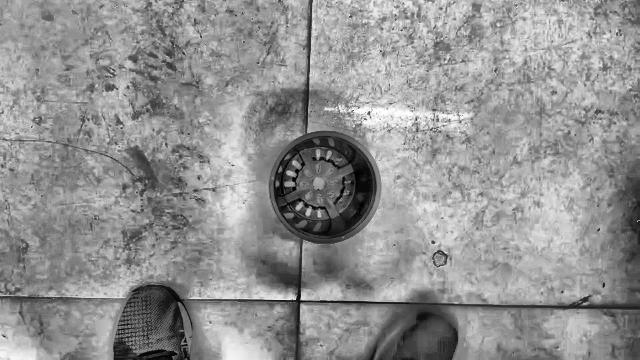pot: (269, 131, 380, 243)
